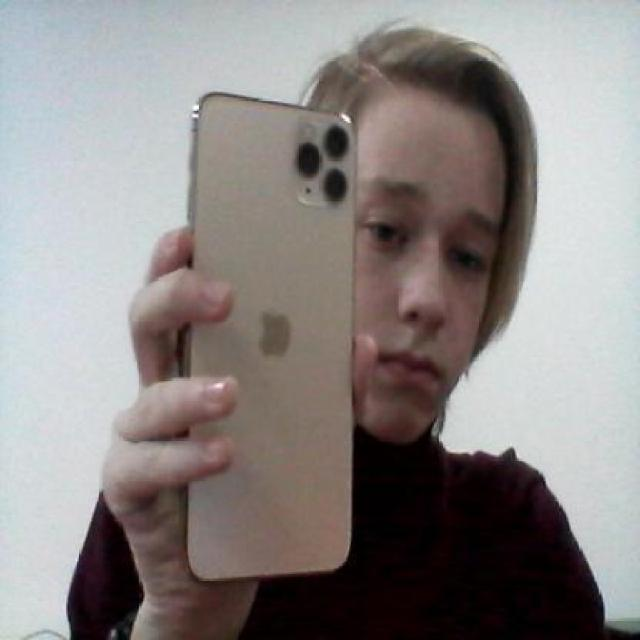mobile: (171, 87, 363, 598)
